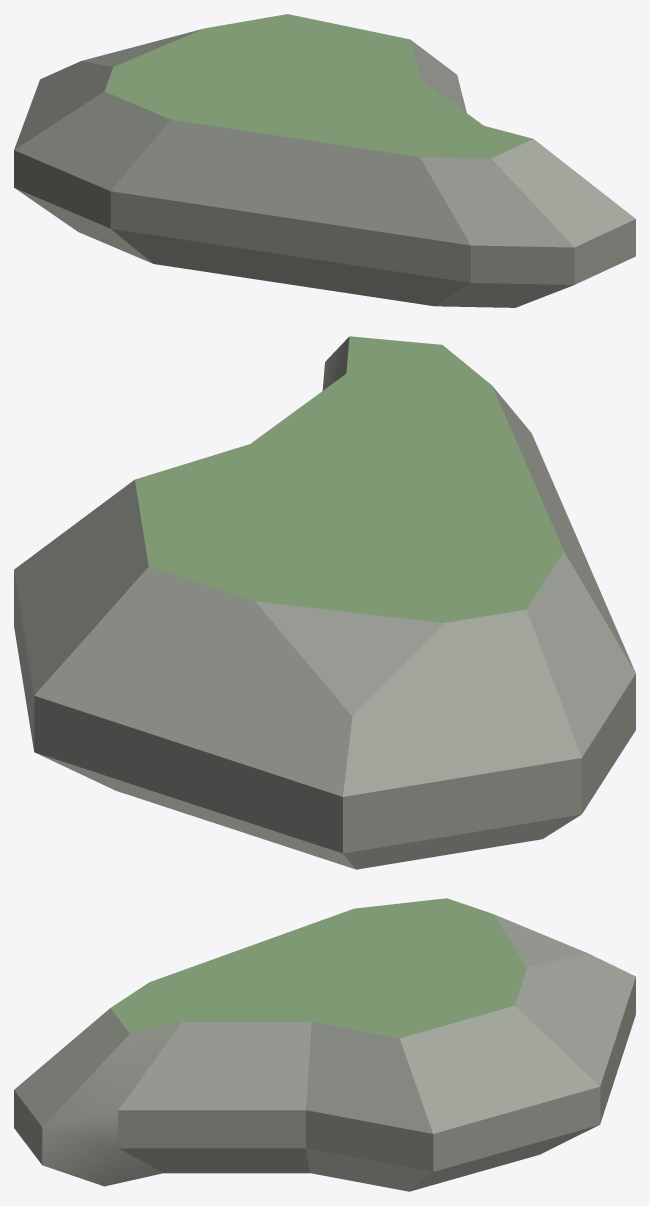
Rendered from rock-a.glb.
The picture shows the model from 3 angles, top to bottom: view 1: azimuth 30°, elevation 25°; view 2: azimuth 150°, elevation 25°; view 3: azimuth 270°, elevation 25°; orthographic projection. The views are drawn at different scales.
Visible parts, largest first — view 1: rock_largeA; view 2: rock_largeA; view 3: rock_largeA.
Part boxes in pixels (bbox=[...]): rock_largeA: bbox=[14, 14, 635, 307]; rock_largeA: bbox=[14, 336, 635, 869]; rock_largeA: bbox=[14, 898, 635, 1191].
Size of the model in its own units: 4.83 by 1.6 by 6.25.
